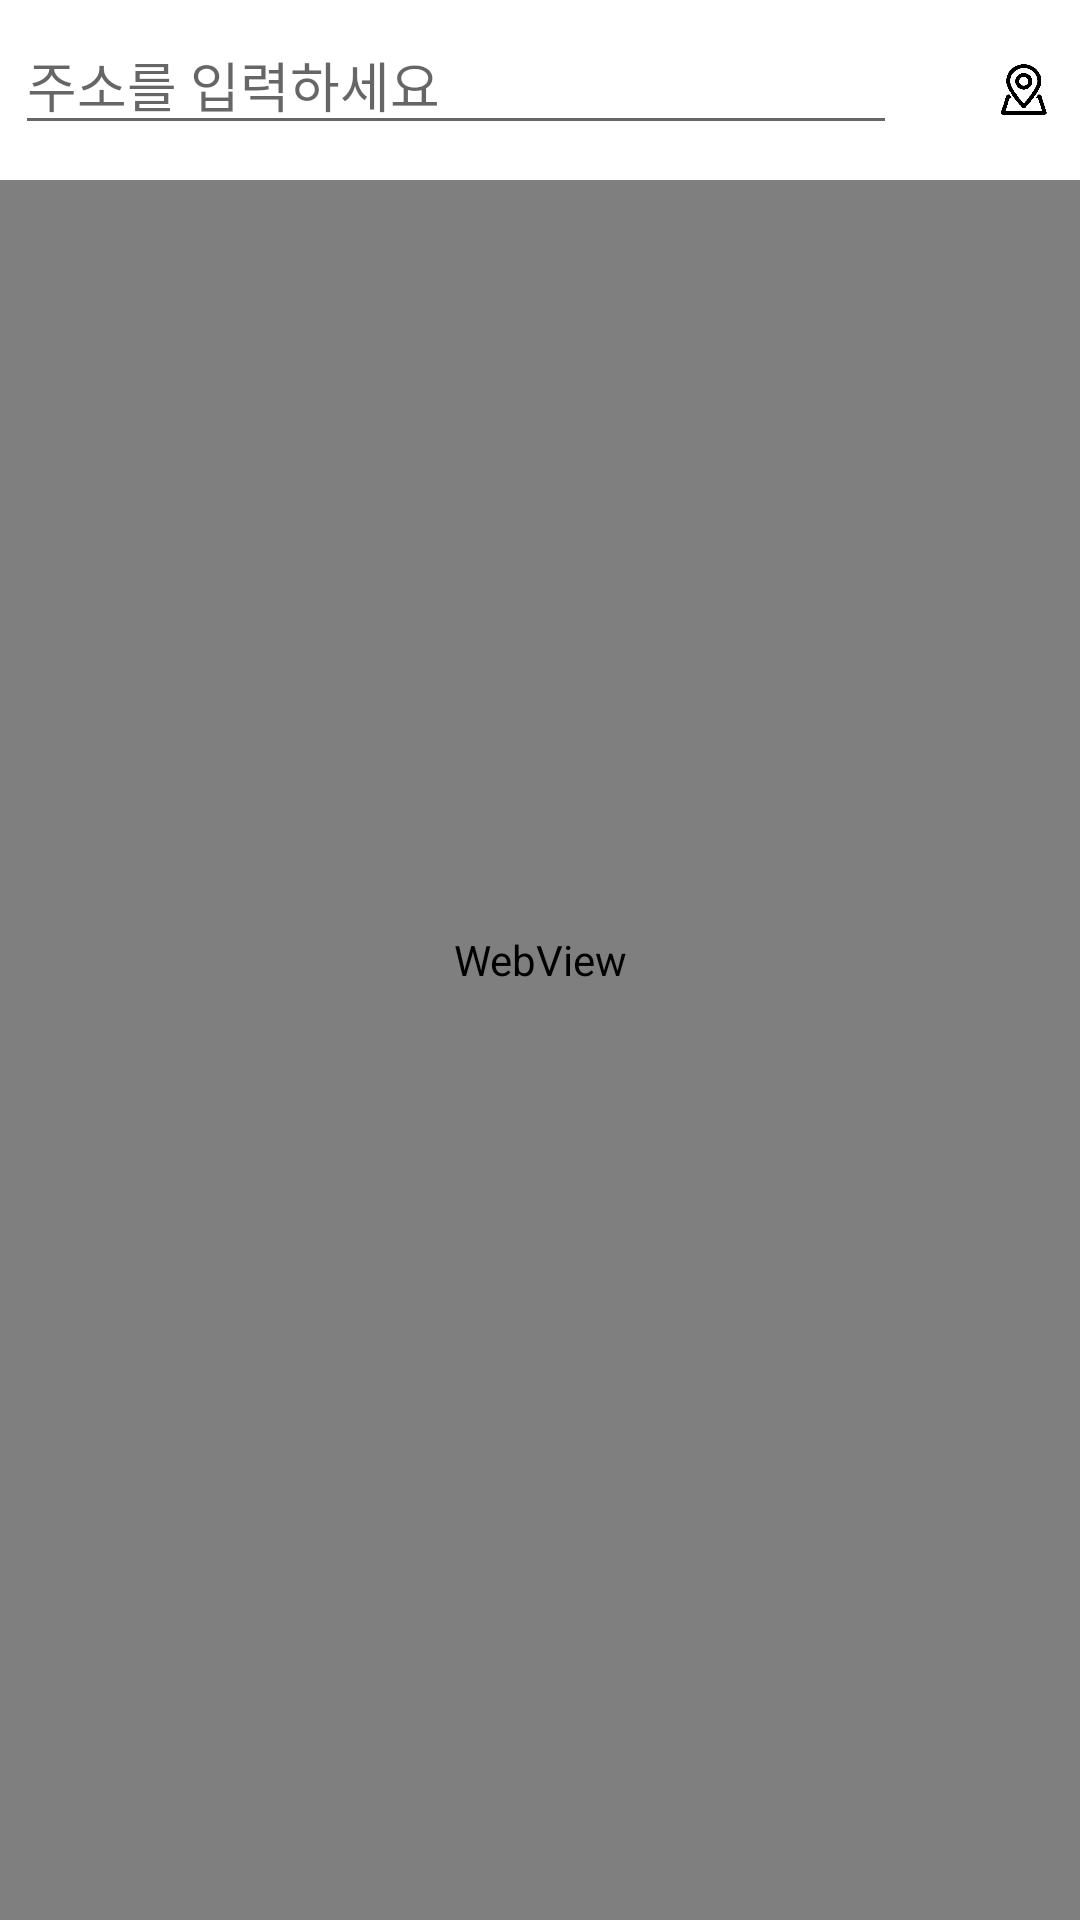

Where to tap for icons on this 1080×1920 app screen, as (x=x, y=y):
location: (x=1024, y=89)
